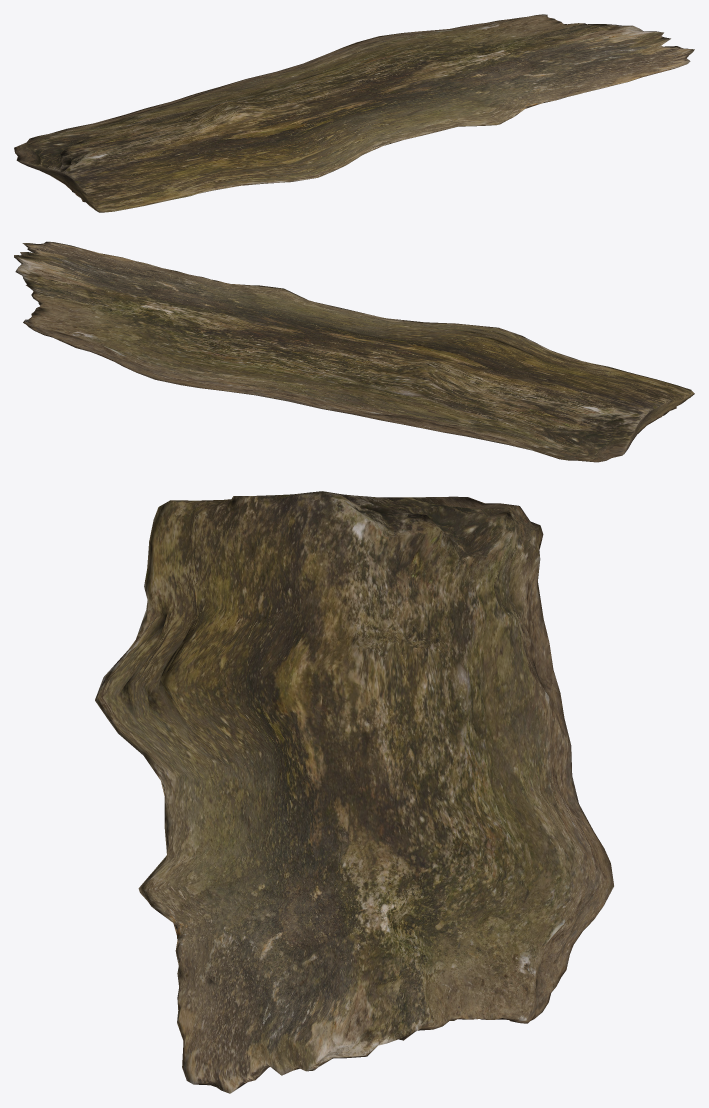
File: Sporgenza 3.fbx
3 views of the same model, one above another, from view 1: azimuth 30°, elevation 25°; view 2: azimuth 150°, elevation 25°; view 3: azimuth 270°, elevation 25° (orthographic). The views are drawn at different scales.
Parts seen in each view (by area): view 1: sporgenza 3; view 2: sporgenza 3; view 3: sporgenza 3.
Boxes of the visible parts, <box> form: sporgenza 3: <box>14,14,694,212</box>; sporgenza 3: <box>14,241,694,462</box>; sporgenza 3: <box>95,491,613,1093</box>.
Bounding box in the file's own units: 1791 × 67.8 × 651.
